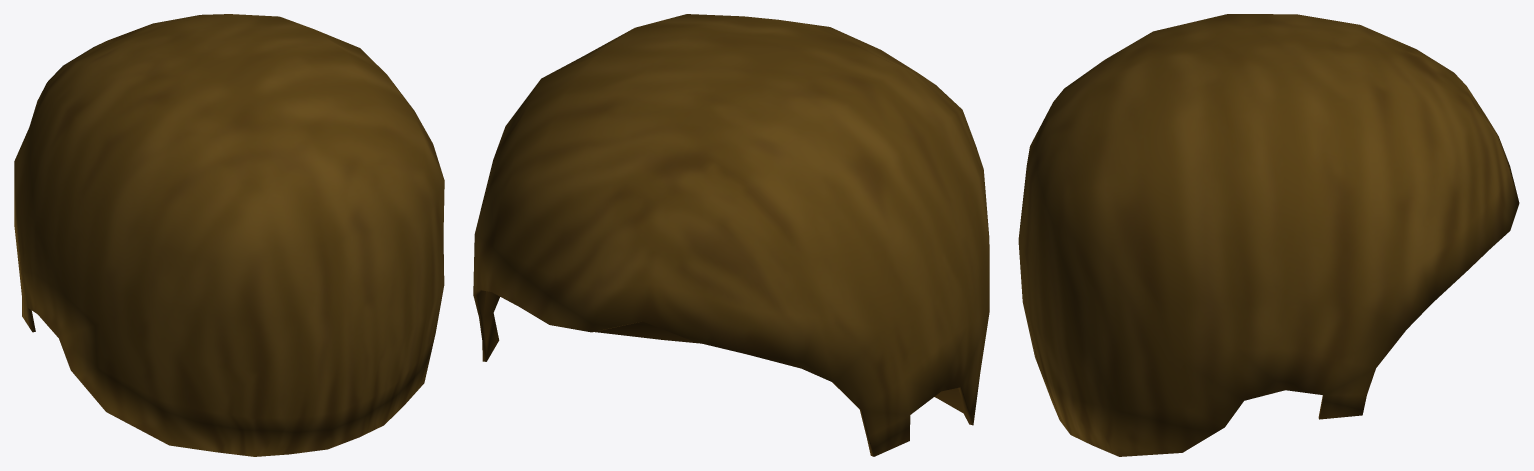
3 views of the same model, side by side, from view 1: azimuth 30°, elevation 25°; view 2: azimuth 150°, elevation 25°; view 3: azimuth 270°, elevation 25° (orthographic). The views are drawn at different scales.
Parts seen in each view (by area): view 1: geometry_0; view 2: geometry_0; view 3: geometry_0.
Part boxes in pixels (box(x1,y1,x2,y2)): geometry_0: box(14, 14, 444, 456); geometry_0: box(473, 14, 989, 456); geometry_0: box(1018, 14, 1519, 456).
Bounding box in the file's own units: 1.3 × 1.11 × 1.43.
1 material, 1 textured.
